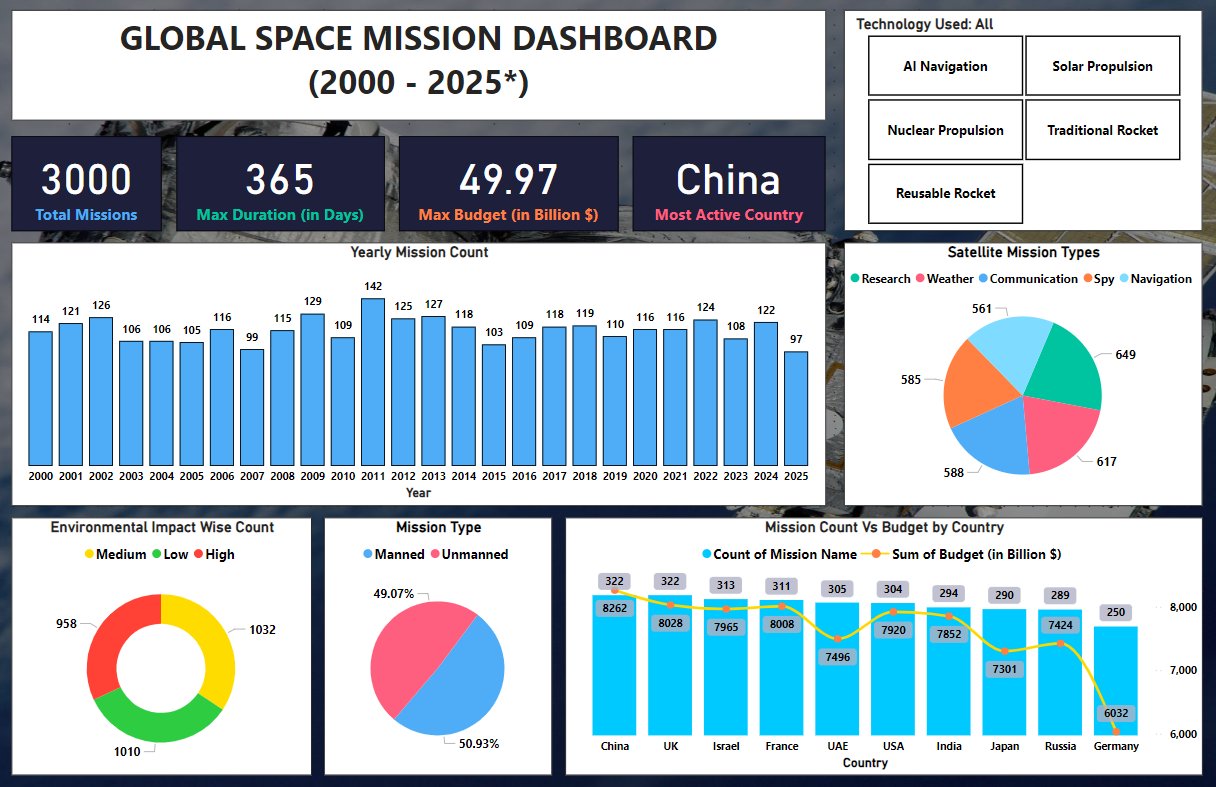

What the dashboard file says about the page in this screenshot:
{"tool":"powerbi","page":{"name":"Page 1","canvas":[1400,900],"ordinal":0},"visuals":[{"type":"card","fields":{"Values":["CountNonNull(Global_Space_Exploration_Dataset.Mission Name)"]},"box":[30.4,160,169.6,107.2],"z":0},{"type":"card","fields":{"Values":["Max(Global_Space_Exploration_Dataset.Duration (in Days))"]},"box":[217.6,160,235.2,107.2],"z":1000},{"type":"card","fields":{"Values":["Max(Global_Space_Exploration_Dataset.Budget (in Billion $))"]},"box":[468.8,160,248,107.2],"z":2000},{"type":"columnChart","title":"Yearly Mission Count","fields":{"Category":["Global_Space_Exploration_Dataset.Year"],"Y":["CountNonNull(Global_Space_Exploration_Dataset.Mission Name)"]},"box":[30.4,280,920,297.6],"z":3000},{"type":"lineStackedColumnComboChart","title":"Mission Count Vs Budget by Country","fields":{"Category":["Global_Space_Exploration_Dataset.Country"],"Y":["CountNonNull(Global_Space_Exploration_Dataset.Mission Name)"],"Y2":["Sum(Global_Space_Exploration_Dataset.Budget (in Billion $))"]},"box":[656,590.4,720,291.2],"z":4000},{"type":"pieChart","title":"Satellite Mission Types","fields":{"Category":["Global_Space_Exploration_Dataset.Satellite Type"],"Y":["CountNonNull(Global_Space_Exploration_Dataset.Mission Name)"]},"box":[971.2,280,404.8,297.6],"z":5000},{"type":"pieChart","title":"Mission Type","fields":{"Category":["Global_Space_Exploration_Dataset.Mission Type"],"Y":["CountNonNull(Global_Space_Exploration_Dataset.Mission Name)"]},"box":[384,590.4,257.6,291.2],"z":6000},{"type":"donutChart","title":"Environmental Impact Wise Count","fields":{"Category":["Global_Space_Exploration_Dataset.Environmental Impact"],"Y":["CountNonNull(Global_Space_Exploration_Dataset.Mission Name)"]},"box":[30.4,590.4,339.2,291.2],"z":7000},{"type":"textbox","box":[30.4,17.6,920,124.8],"z":8000},{"type":"card","fields":{"Values":["Min(Global_Space_Exploration_Dataset.Country)"]},"box":[732.8,160,217.6,107.2],"z":9000},{"type":"slicer","fields":{"Values":["Global_Space_Exploration_Dataset.Technology Used"]},"box":[971.2,17.6,404.8,249.6],"z":10000}]}

Visuals, with their boxes in screenshot pixels (x1, y1, x2, y2), scaled from the page's 1400x900 canvas onto the 1216x787 screenshot:
card - CountNonNull(Global_Space_Exploration_Dataset.Mission Name): box(26, 140, 174, 234)
card - Max(Global_Space_Exploration_Dataset.Duration (in Days)): box(189, 140, 393, 234)
card - Max(Global_Space_Exploration_Dataset.Budget (in Billion $)): box(407, 140, 623, 234)
"Yearly Mission Count" columnChart: box(26, 245, 825, 505)
"Mission Count Vs Budget by Country" lineStackedColumnComboChart: box(570, 516, 1195, 771)
"Satellite Mission Types" pieChart: box(844, 245, 1195, 505)
"Mission Type" pieChart: box(334, 516, 557, 771)
"Environmental Impact Wise Count" donutChart: box(26, 516, 321, 771)
textbox: box(26, 15, 825, 125)
card - Min(Global_Space_Exploration_Dataset.Country): box(636, 140, 825, 234)
slicer - Global_Space_Exploration_Dataset.Technology Used: box(844, 15, 1195, 234)
